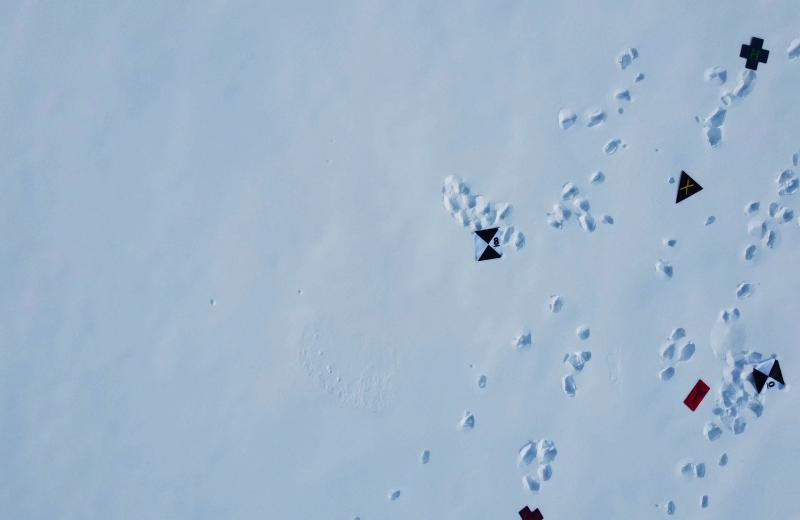Cross: (736, 16, 779, 74)
Rectangle: (670, 370, 724, 428)
Triangle: (665, 158, 711, 215)
